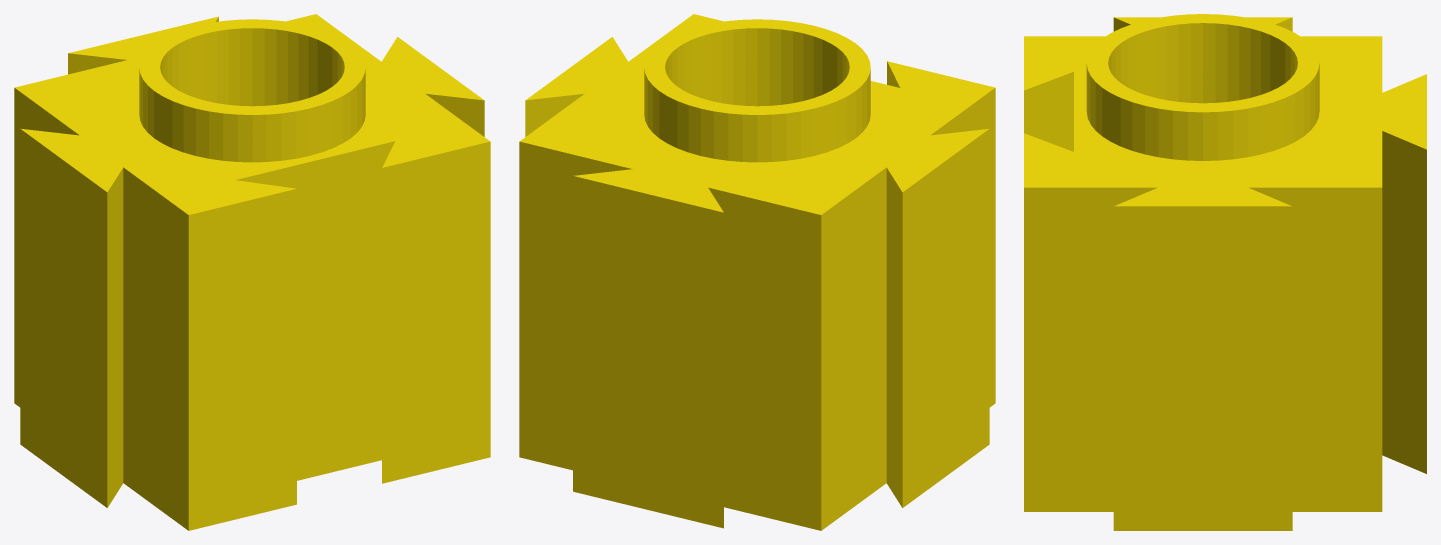
The model's file is yellowPLAEXSide.obj.
3 renders of one model, left to right at view 1: azimuth 30°, elevation 25°; view 2: azimuth 150°, elevation 25°; view 3: azimuth 270°, elevation 25°, orthographic. The views are drawn at different scales.
Parts seen in each view (by area): view 1: PLAEXSide_2x2x2; view 2: PLAEXSide_2x2x2; view 3: PLAEXSide_2x2x2.
Part boxes in pixels (box(x1,y1,x2,y2)): PLAEXSide_2x2x2: box(14, 14, 490, 530); PLAEXSide_2x2x2: box(519, 14, 995, 530); PLAEXSide_2x2x2: box(1024, 14, 1426, 530).
Size of the model in its own units: 2.5 by 2.3 by 2.25.
